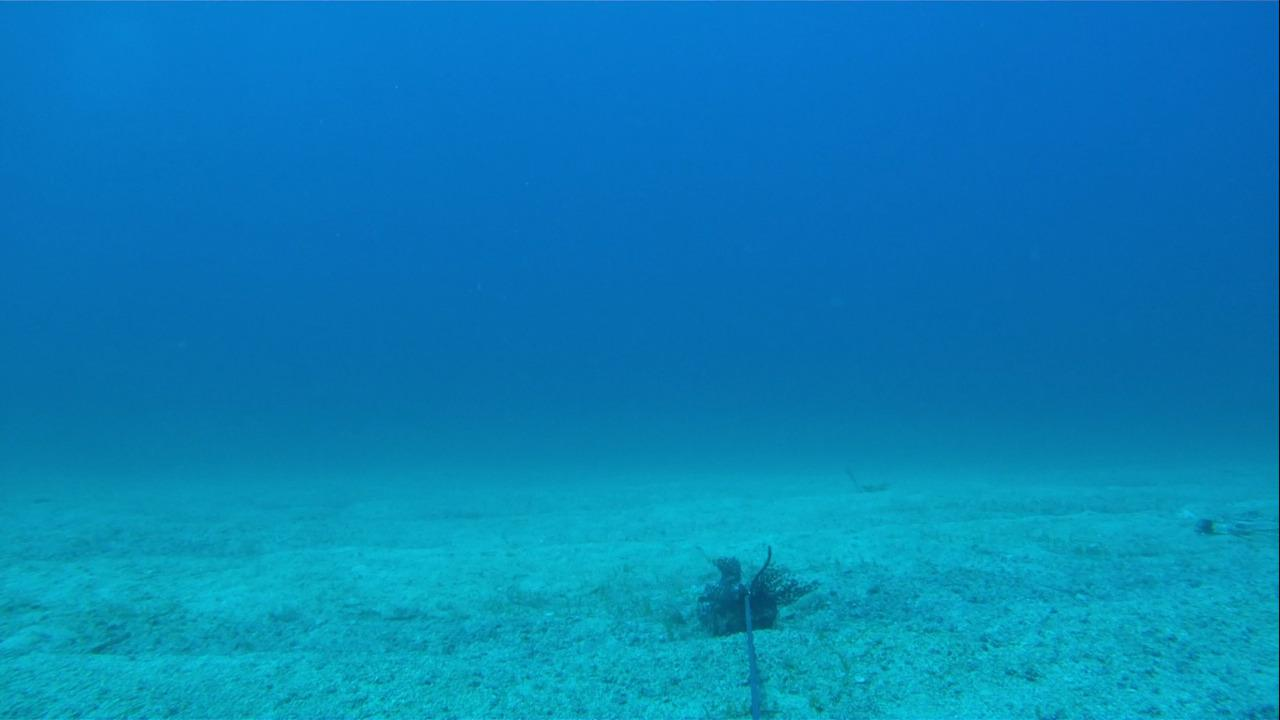dactylopterus: (1191, 506, 1277, 558)
